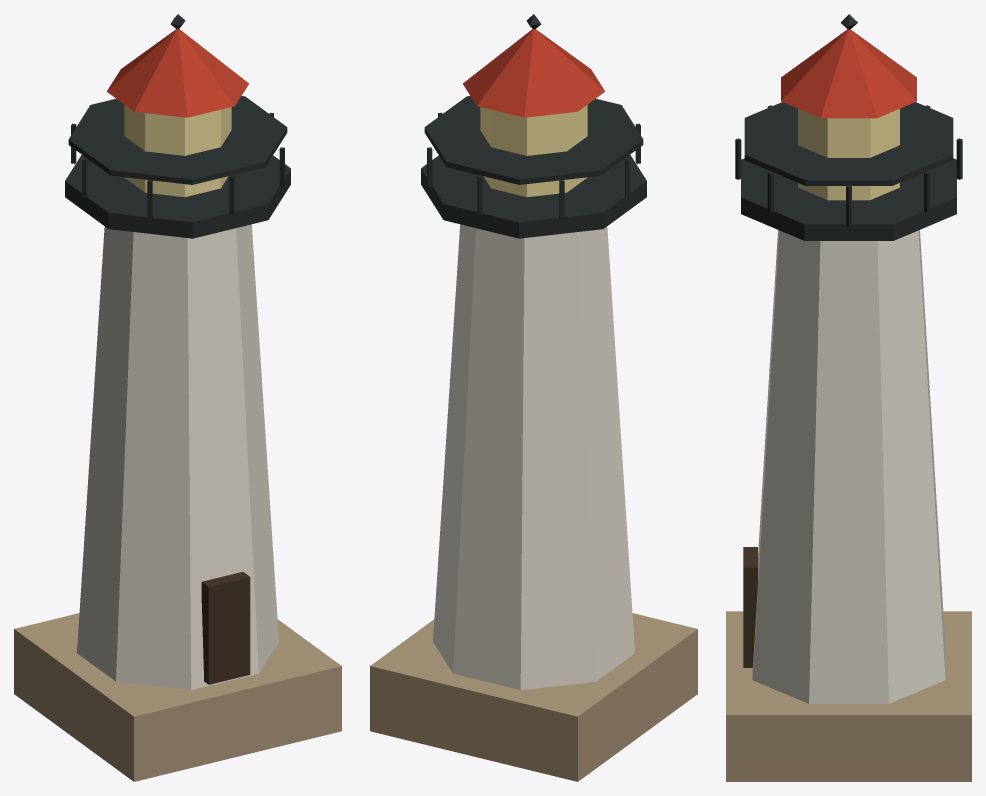
Rendered from lighthouse.glb.
The picture shows the model from 3 angles, left to right: view 1: azimuth 30°, elevation 25°; view 2: azimuth 150°, elevation 25°; view 3: azimuth 270°, elevation 25°; orthographic projection. The views are drawn at different scales.
Visible parts, largest first — view 1: lighthouse2; view 2: lighthouse2; view 3: lighthouse2.
Boxes of the visible parts, x1,y1,x2,y2 form: lighthouse2: [14, 14, 341, 781]; lighthouse2: [370, 14, 697, 781]; lighthouse2: [726, 14, 971, 781].
Bounding box in the file's own units: 2.6 × 8.36 × 2.6.
